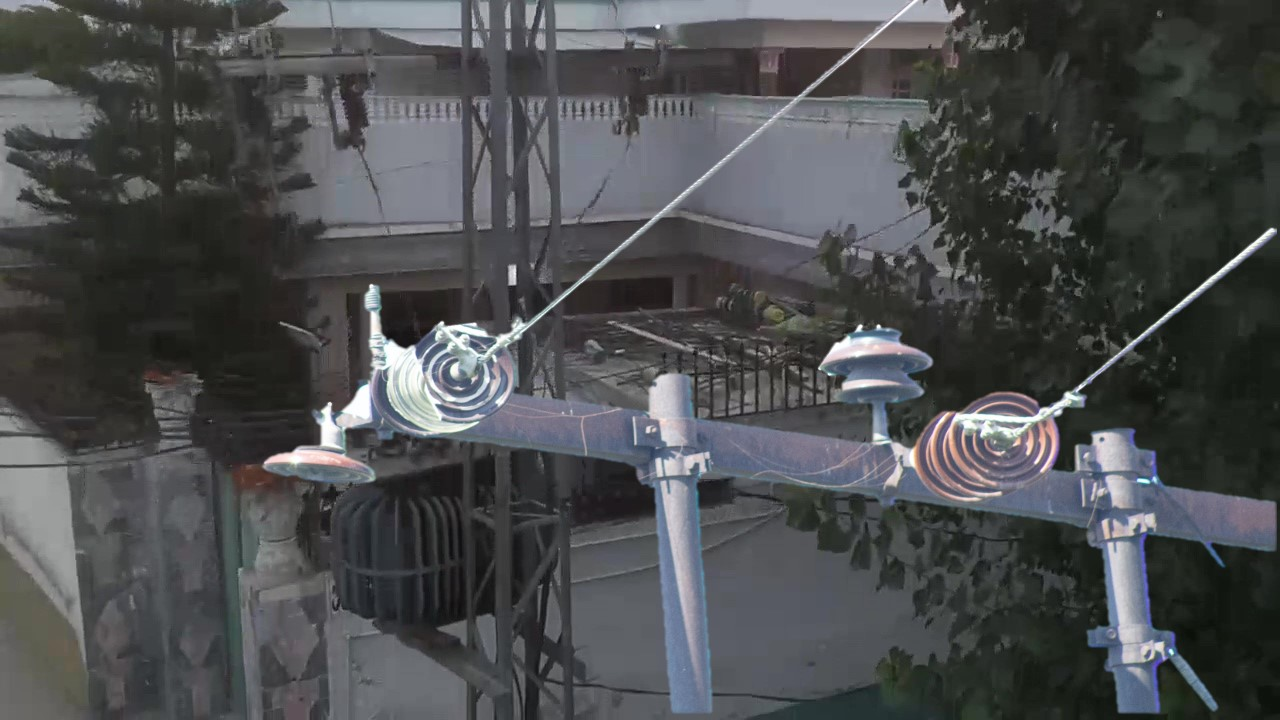defect_disc: (414, 316, 525, 433)
insulator_disc: (940, 388, 1066, 487), (260, 417, 381, 498)
